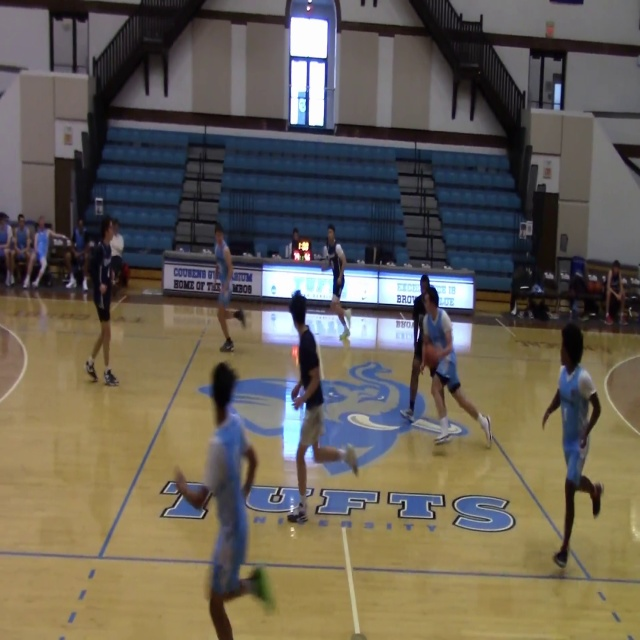Basketball: (183, 484, 209, 509), (422, 344, 441, 367), (291, 345, 298, 358)
